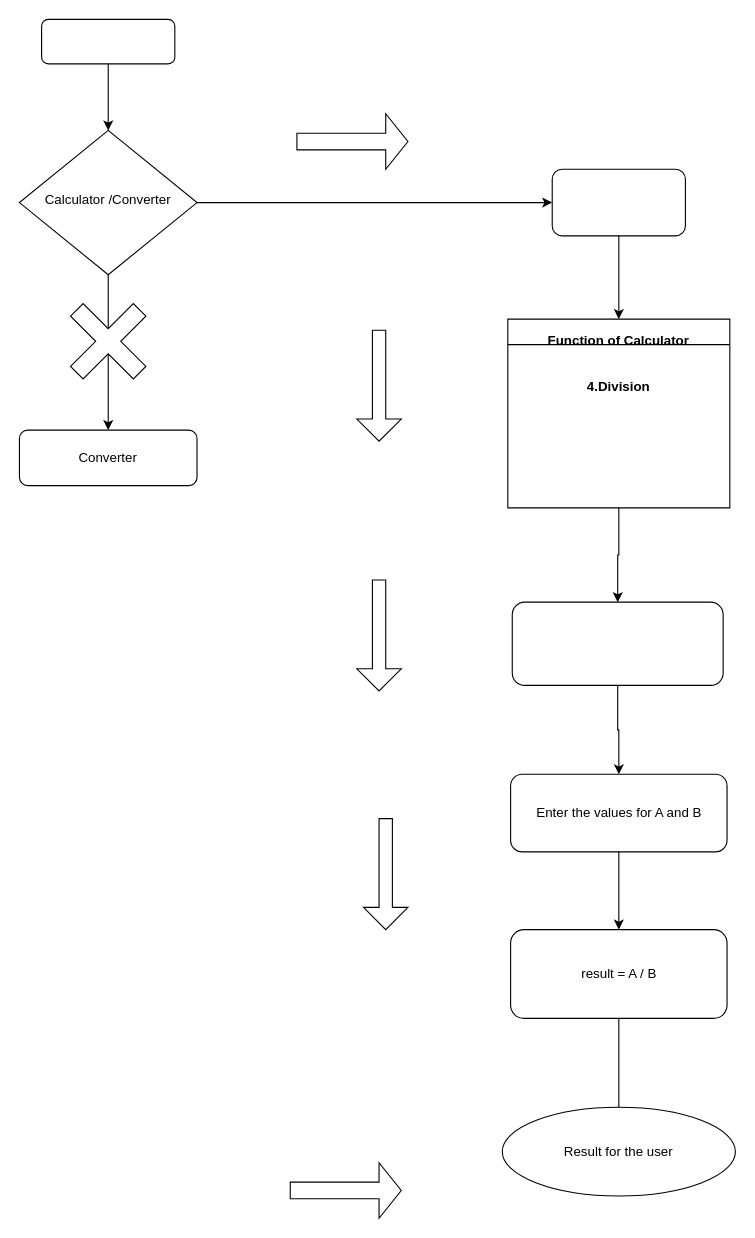
Some shapes in this 755 by 1238 pixel diagram are drawn without their labels. The centre of each missing label's shape, as x and y in pixels:
Calculator: the point at 618,202
Move to Selected Function A / B: the point at 617,643
User interface: the point at 108,41
